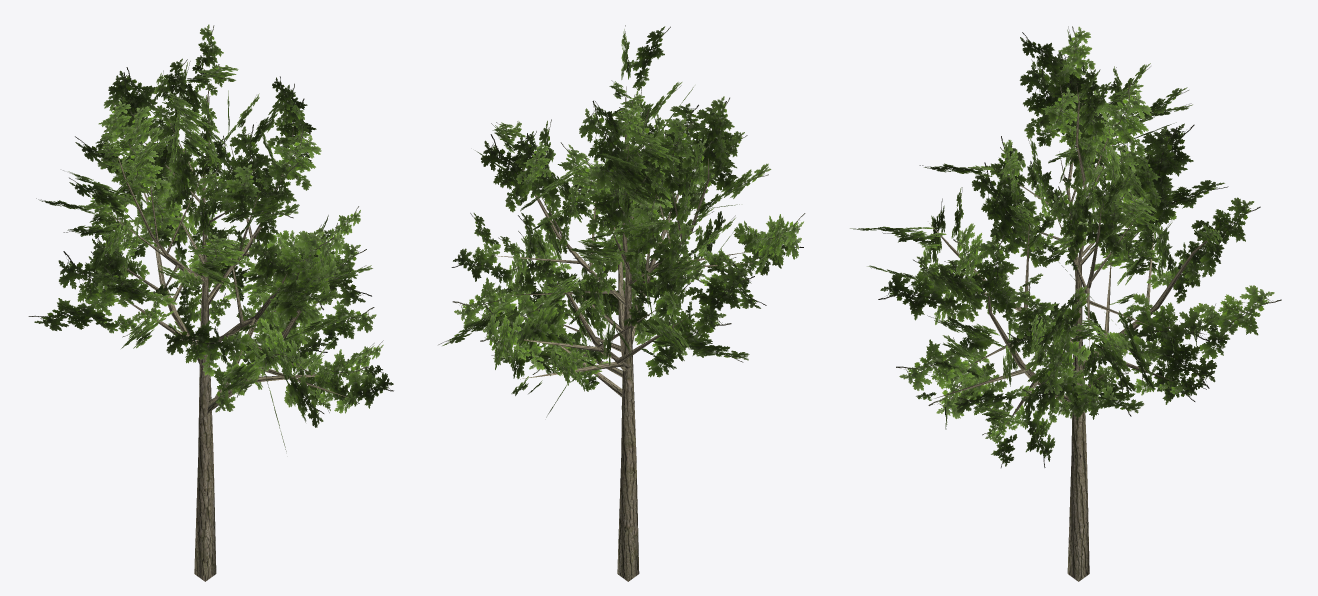
File: ez-oak-02-far.glb
The picture shows the model from 3 angles, left to right: view 1: azimuth 30°, elevation 25°; view 2: azimuth 150°, elevation 25°; view 3: azimuth 270°, elevation 25°; orthographic projection.
Visible parts, largest first — view 1: leaves, branches; view 2: leaves, branches; view 3: leaves, branches.
Boxes of the visible parts, <box> form: leaves: <box>28,24,393,451</box>; branches: <box>95,83,350,581</box>; leaves: <box>438,25,805,417</box>; branches: <box>495,86,752,581</box>; leaves: <box>850,26,1281,467</box>; branches: <box>929,84,1217,581</box>.
Size of the model in its own units: 40.54 by 67.71 by 50.76.
Materials: 2 (2 with a texture image).
